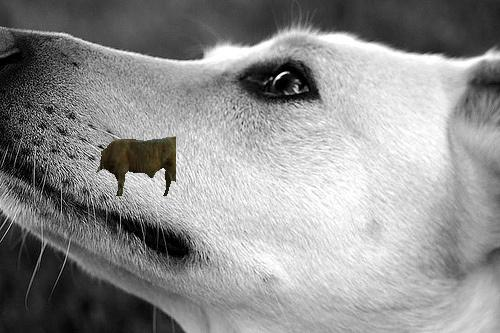tampered: (97, 137, 176, 196)
